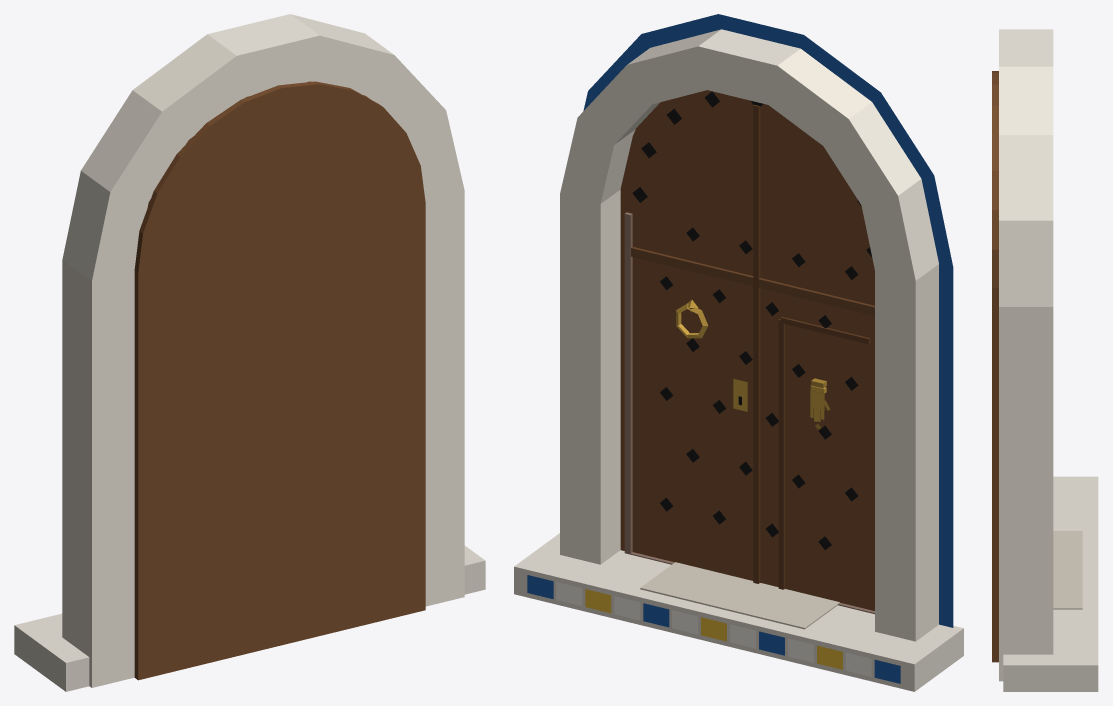
The model's file is door_sbs_wood.glb.
3 views of the same model, side by side, from view 1: azimuth 30°, elevation 25°; view 2: azimuth 150°, elevation 25°; view 3: azimuth 270°, elevation 25° (orthographic). The views are drawn at different scales.
Visible parts, largest first — view 1: door_sbs_wood; view 2: door_sbs_wood; view 3: door_sbs_wood.
Boxes of the visible parts, left/top/right/bottom form: door_sbs_wood: left=14, top=14, right=485, bottom=691; door_sbs_wood: left=514, top=14, right=963, bottom=691; door_sbs_wood: left=992, top=29, right=1098, bottom=691.
Bounding box in the file's own units: 1.97 × 2.75 × 0.472.
